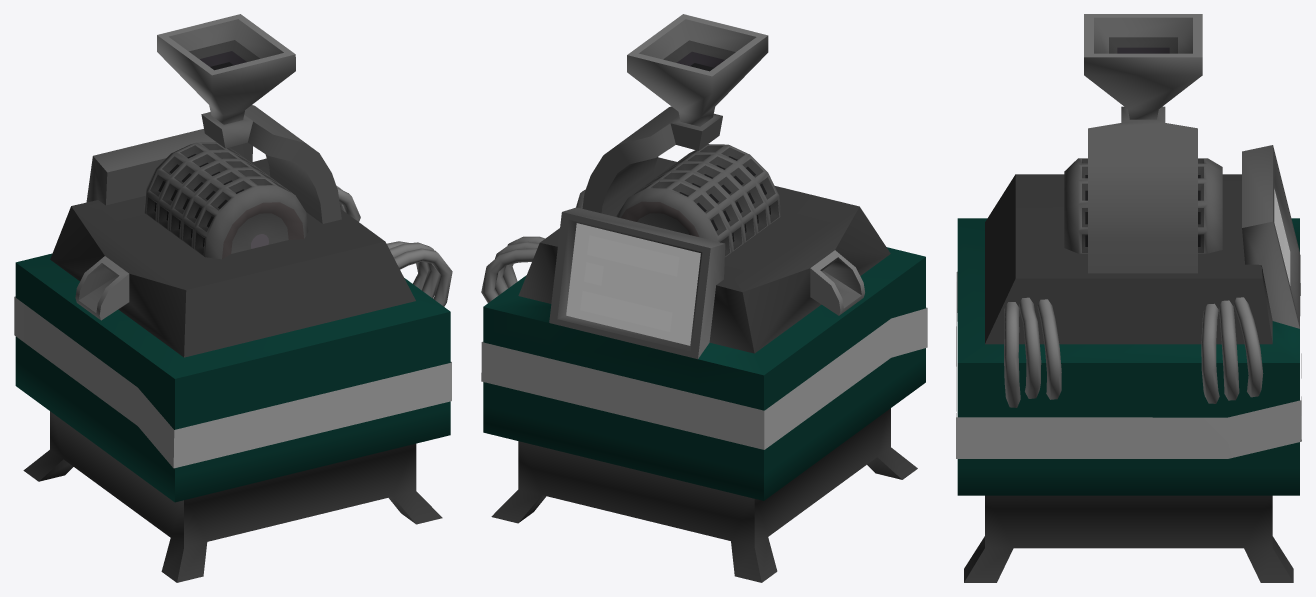
File: Seed Processor.fbx
3 views of the same model, side by side, from view 1: azimuth 30°, elevation 25°; view 2: azimuth 150°, elevation 25°; view 3: azimuth 270°, elevation 25° (orthographic). The views are drawn at different scales.
Parts seen in each view (by area): view 1: Seed Processor, Seed Processor Wheel; view 2: Seed Processor, Seed Processor Wheel; view 3: Seed Processor, Seed Processor Wheel.
Part boxes in pixels (<box>): Seed Processor: <box>14,14,452,582</box>; Seed Processor Wheel: <box>144,142,308,259</box>; Seed Processor: <box>481,14,927,582</box>; Seed Processor Wheel: <box>616,144,780,256</box>; Seed Processor: <box>956,14,1301,582</box>; Seed Processor Wheel: <box>1064,158,1222,253</box>.
Size of the model in its own units: 0.963 by 1.32 by 0.8672.
